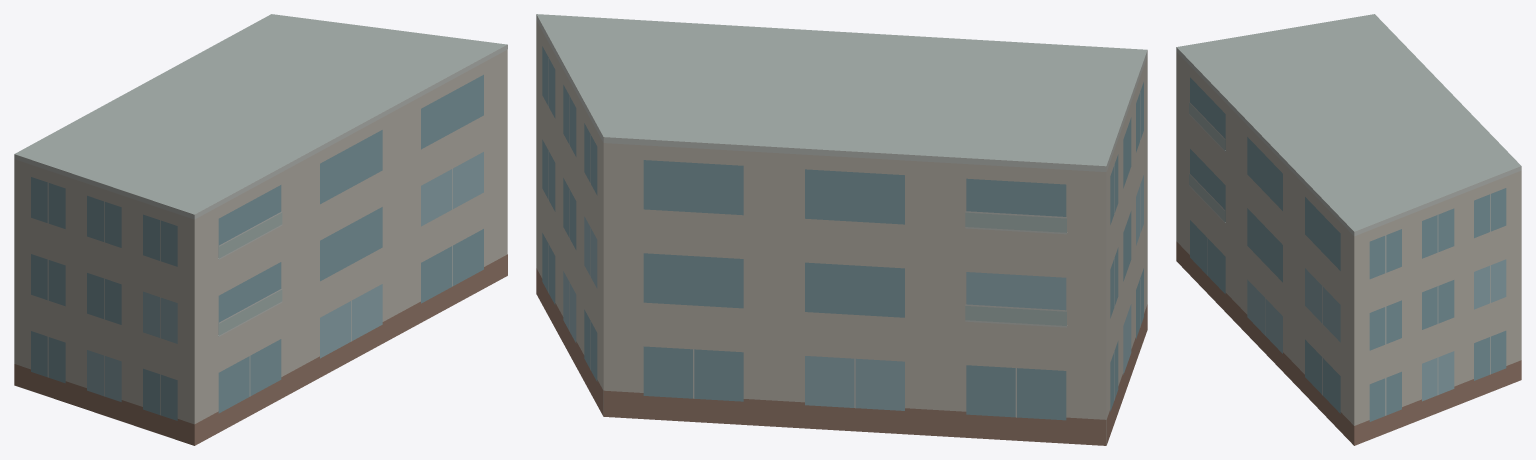
The model's file is survey-upis-32986939.glb.
3 views of the same model, side by side, from view 1: azimuth 30°, elevation 25°; view 2: azimuth 150°, elevation 25°; view 3: azimuth 270°, elevation 25° (orthographic). The views are drawn at different scales.
Visible parts, largest first — view 1: survey-upis-32986939.tmp; view 2: survey-upis-32986939.tmp; view 3: survey-upis-32986939.tmp.
Part boxes in pixels (x1,y1,x2,y2): survey-upis-32986939.tmp: [14, 14, 507, 445]; survey-upis-32986939.tmp: [536, 14, 1147, 445]; survey-upis-32986939.tmp: [1176, 14, 1521, 445].
Bounding box in the file's own units: 25.12 × 11.5 × 16.82.
